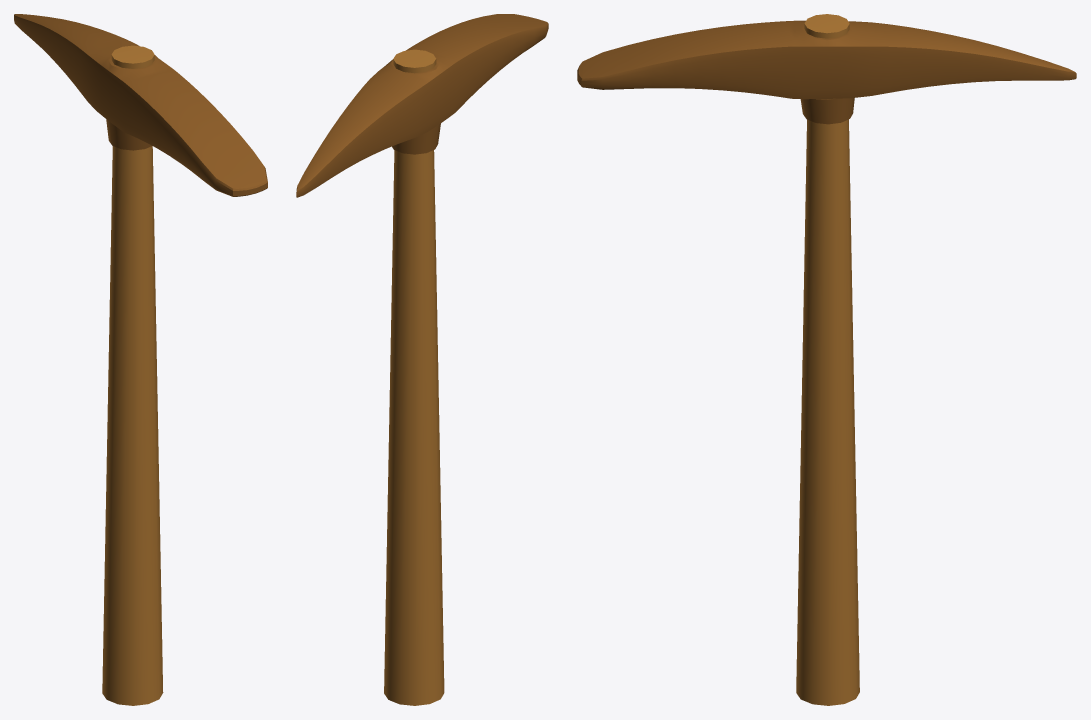
File: KazmaLevel1.fbx
3 renders of one model, left to right at view 1: azimuth 30°, elevation 25°; view 2: azimuth 150°, elevation 25°; view 3: azimuth 270°, elevation 25°, orthographic. The views are drawn at different scales.
Parts seen in each view (by area): view 1: KazmaLevel1; view 2: KazmaLevel1; view 3: KazmaLevel1.
Boxes of the visible parts, bbox=[...] form: KazmaLevel1: bbox=[14, 14, 267, 705]; KazmaLevel1: bbox=[296, 14, 548, 705]; KazmaLevel1: bbox=[577, 14, 1076, 705].
Bounding box in the file's own units: 16.03 × 186 × 126.
